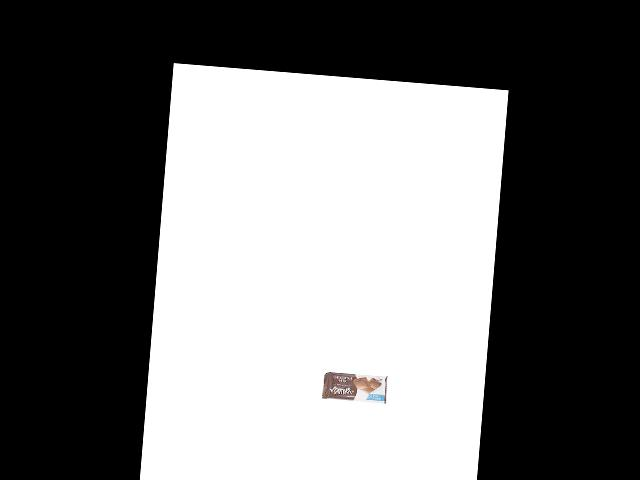chocolate: (322, 369, 388, 405)
